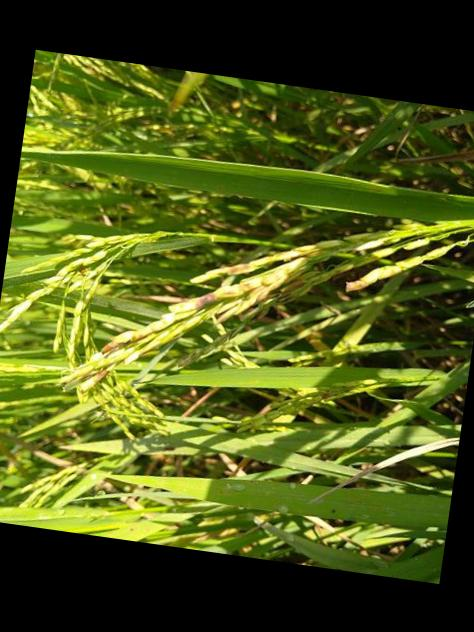Panicle Blight: (62, 256, 309, 390), (193, 250, 308, 279), (346, 256, 424, 293), (61, 257, 96, 279), (280, 280, 311, 302), (60, 233, 111, 246), (310, 389, 339, 401)
